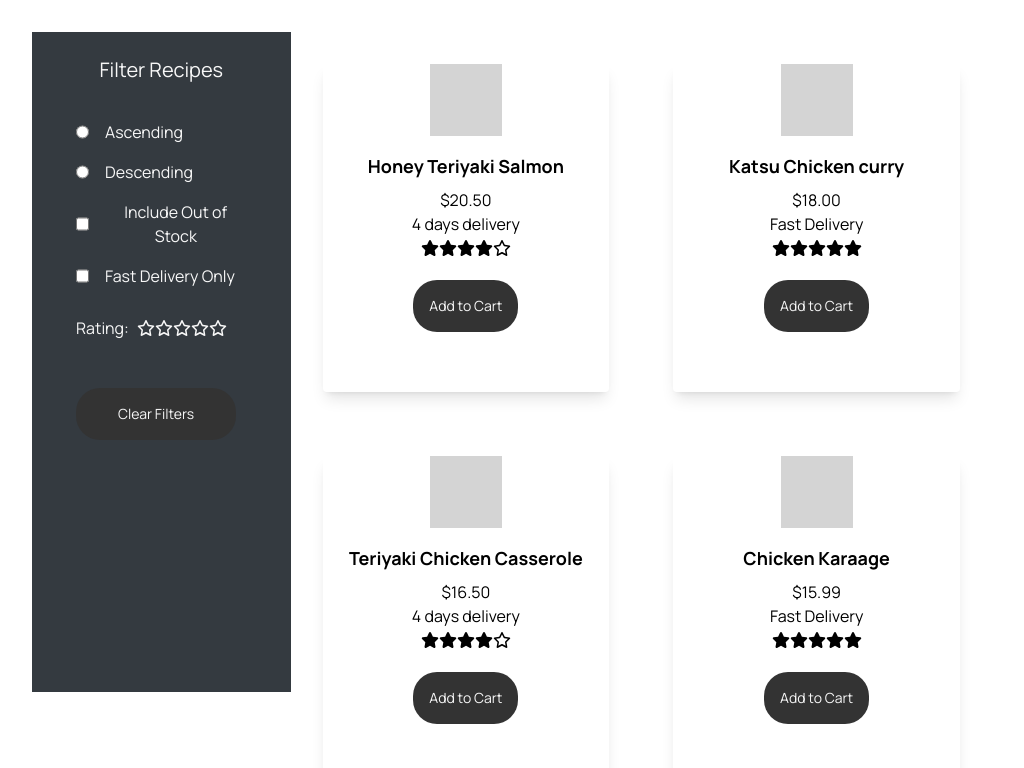
Test: Meals page component › filters the product product list by using the filters
Click the checkbox showing "Fast Delivery Only" next to "Fast Delivery Only" at (82, 276), box [76, 264, 89, 288]
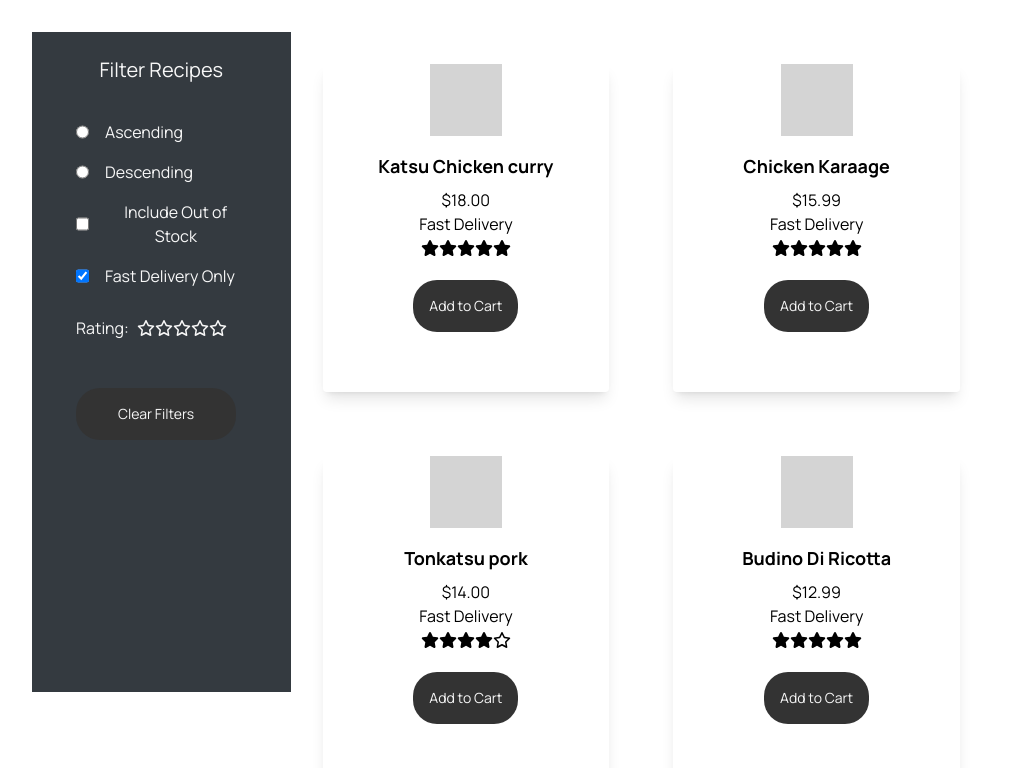
Expected: the text "Chicken Karaage" is shown, [743, 152, 890, 180]
Now the text "Honey Teriyaki Salmon" is gone
